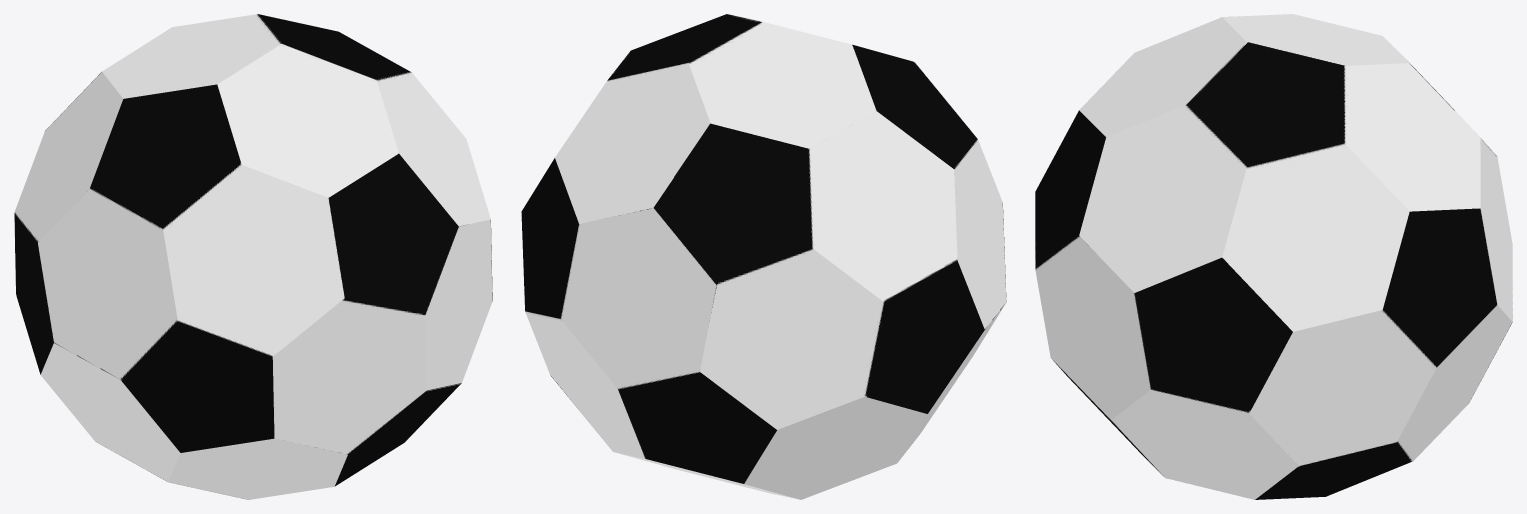
The model's file is ball.glb.
3 views of the same model, side by side, from view 1: azimuth 30°, elevation 25°; view 2: azimuth 150°, elevation 25°; view 3: azimuth 270°, elevation 25° (orthographic).
Parts seen in each view (by area): view 1: Football; view 2: Football; view 3: Football.
Boxes of the visible parts, left/top/right/bottom form: Football: left=14, top=14, right=492, bottom=499; Football: left=521, top=14, right=1006, bottom=499; Football: left=1035, top=14, right=1512, bottom=499.
Size of the model in its own units: 1.9 by 1.91 by 1.85.
Materials: 1 (1 with a texture image).
